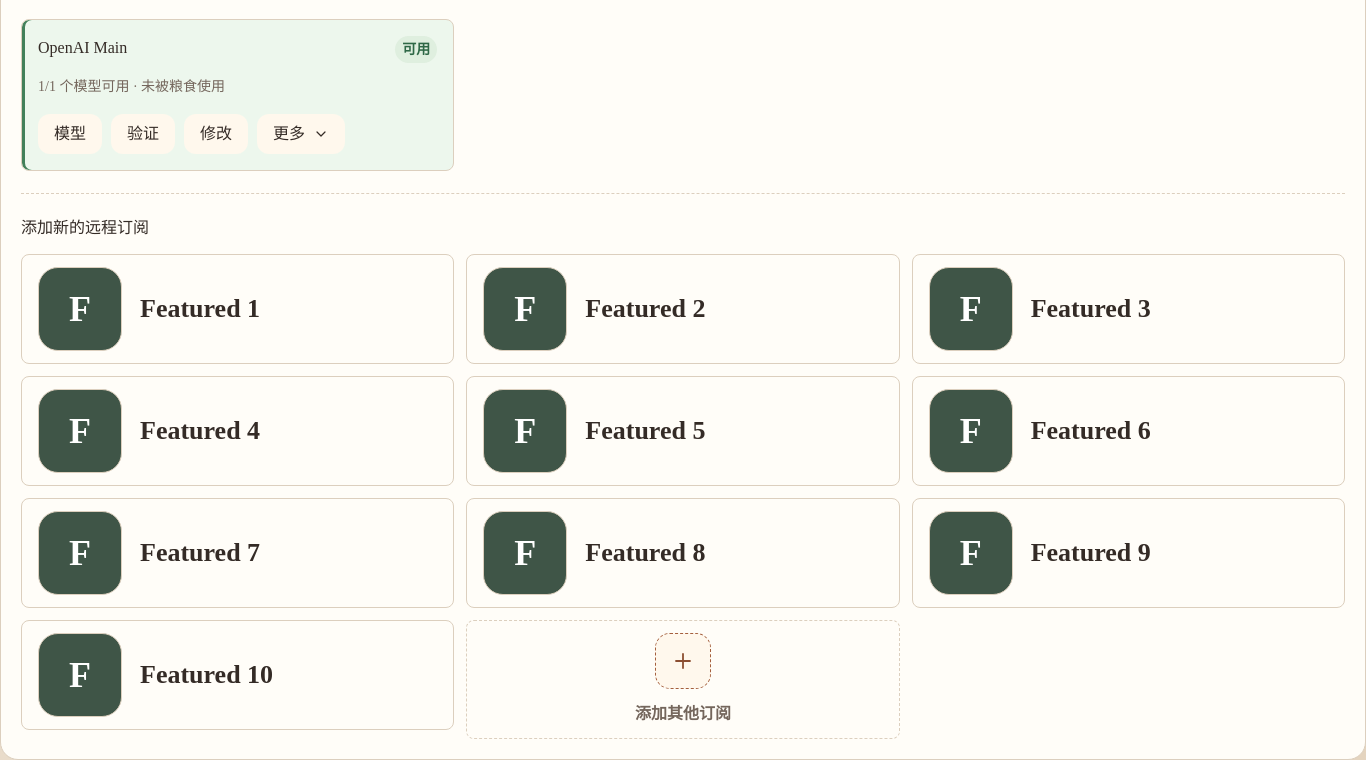
Test: OwnerProviderPanel v2 behavior › keeps model aggregators in the other-subscriptions picker
The width and height of the screenshot is (1366, 760).
(page scrolled)
Expected: the button with aria-label "配置 Featured 1" is shown, [21,254,454,364]
Click the button "添加其他订阅" at (683, 680), box [466,620,900,739]
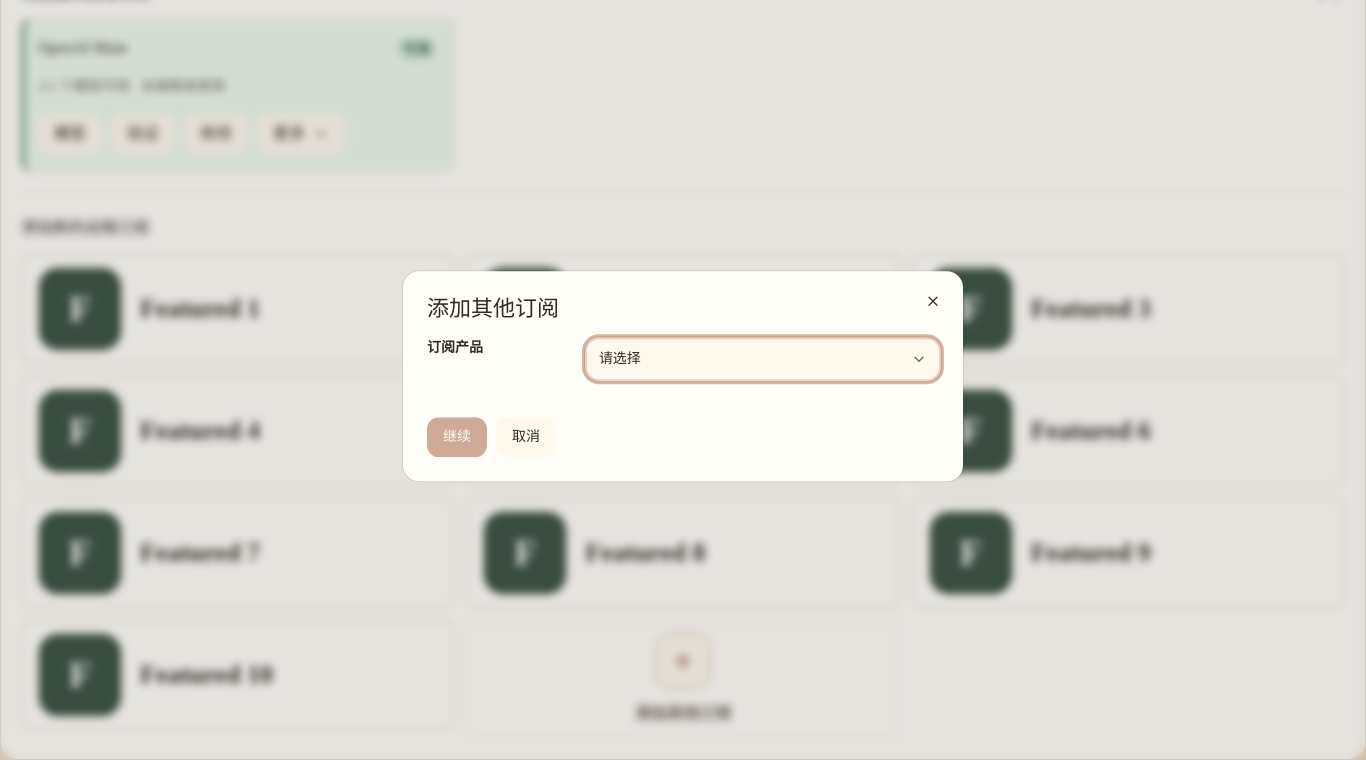
Click the dropdown named "订阅产品" at (620, 358), box [587,339,939,379]
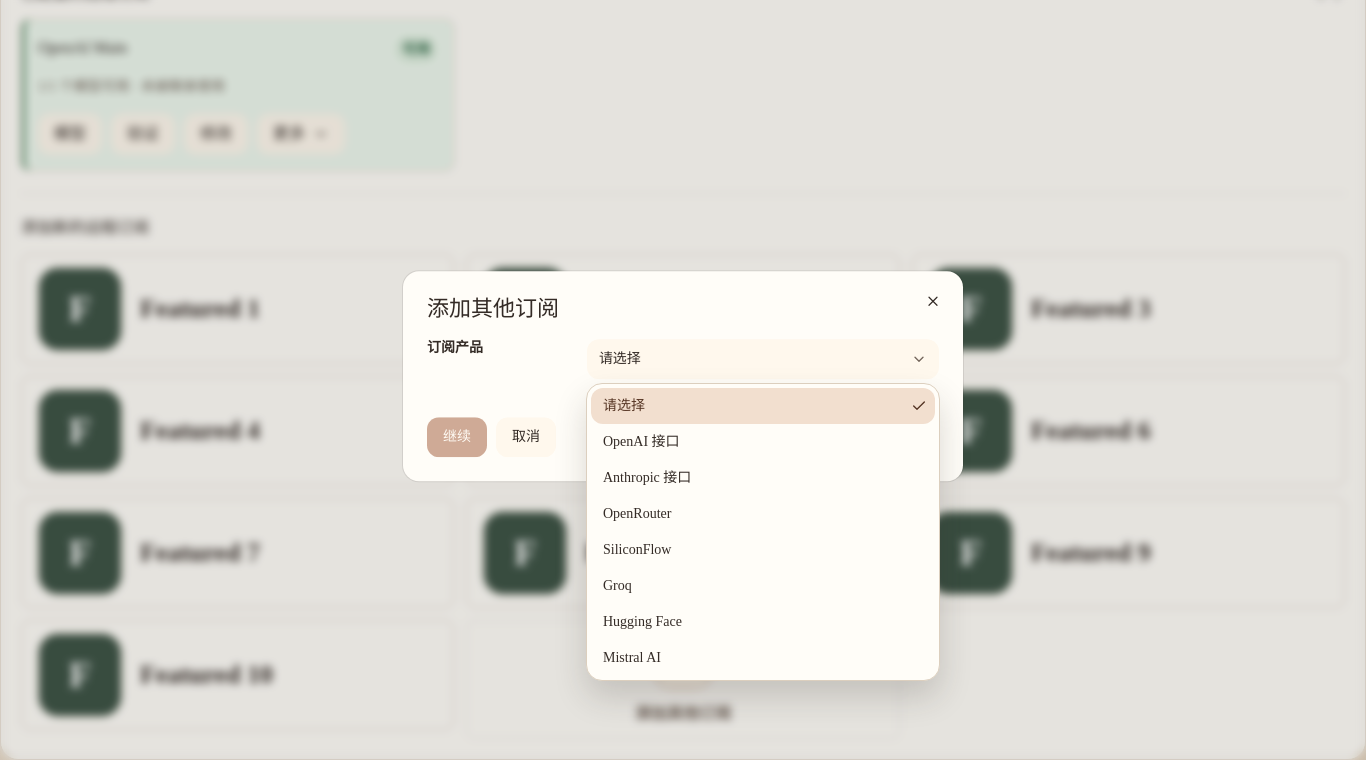
Expected: the option "OpenRouter" is shown, [603,506,671,521]
Expected: the option "SiliconFlow" is shown, [603,542,672,557]
Expected: the option "Groq" is shown, [603,578,632,593]
